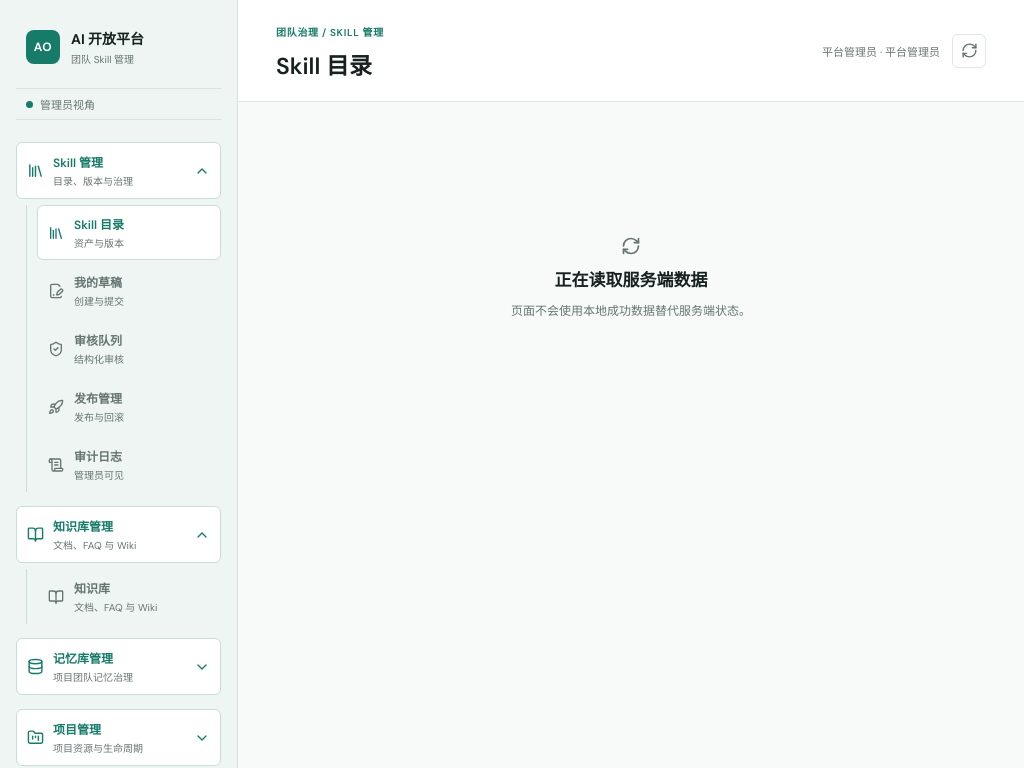
Scenario: AdminDashboard › opens independent project management and renders lifecycle tabs
Click the button "项目管理 项目资源与生命周期": (118, 738) [16, 709, 221, 766]
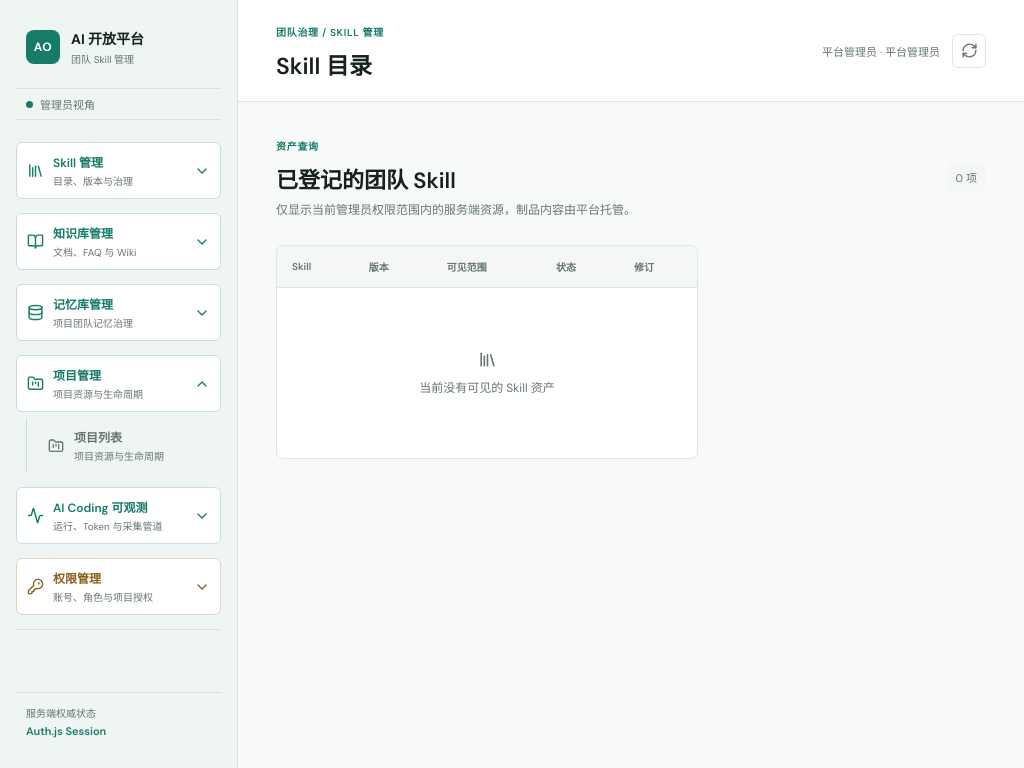
Click the button named "项目列表项目资源与生命周期": (129, 446) [37, 418, 221, 473]
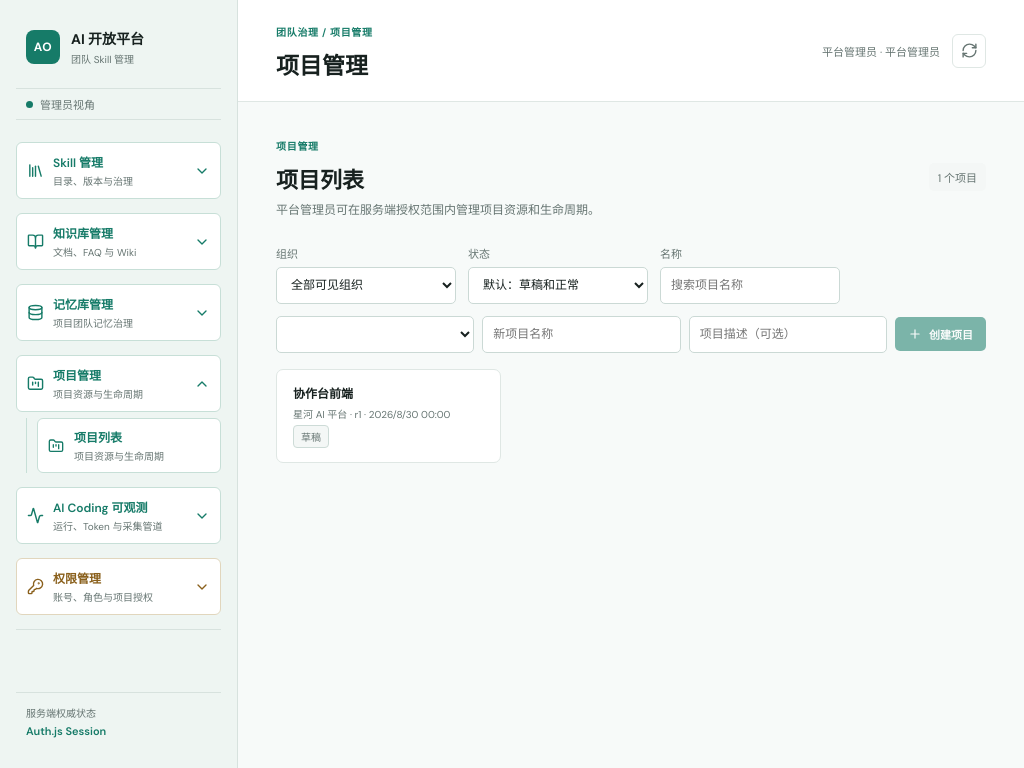
expect the heading "项目列表" is shown: met, box [276, 166, 364, 195]
In the field labelled "项目名称": (581, 334) [482, 316, 681, 353], type "新项目"
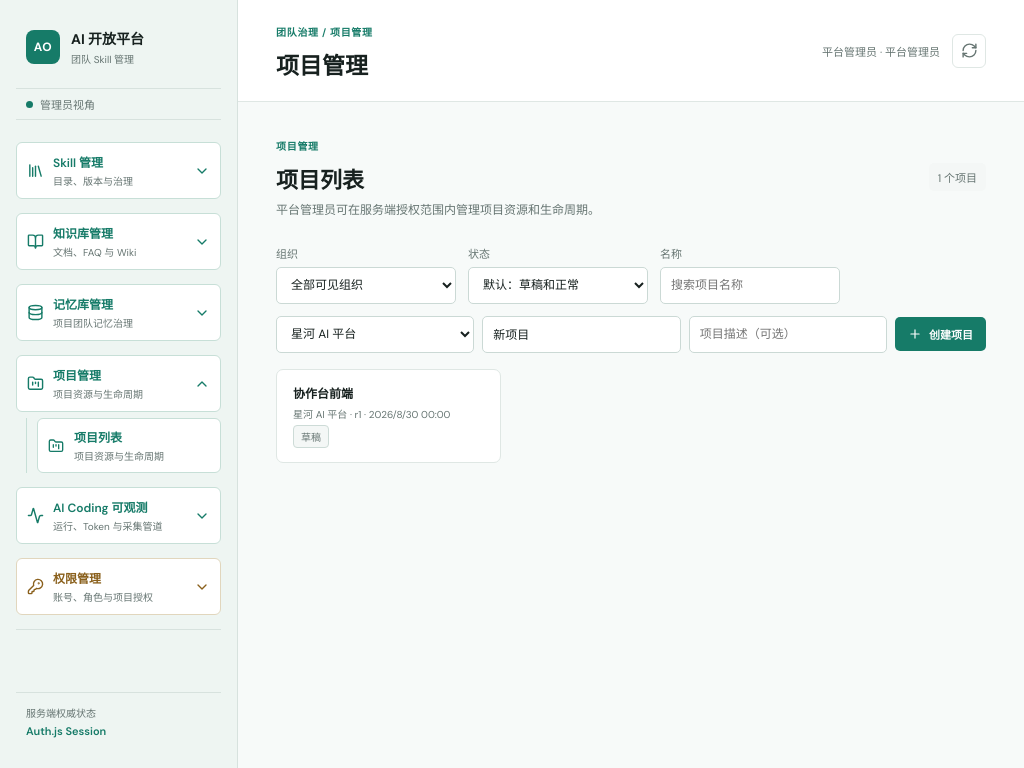
Click the button "创建项目": (940, 334) [895, 317, 986, 351]
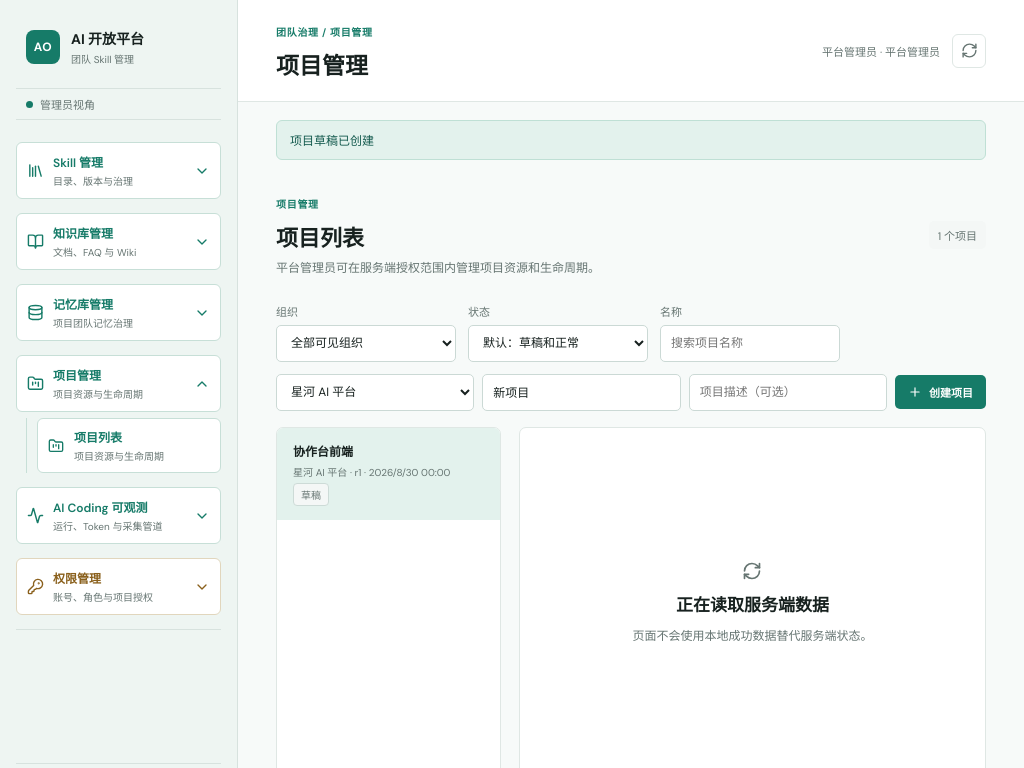
Click the button "协作台前端 星河 AI 平台 · r1 · 2026/8/30 00:00 草稿": (388, 474) [277, 428, 500, 520]
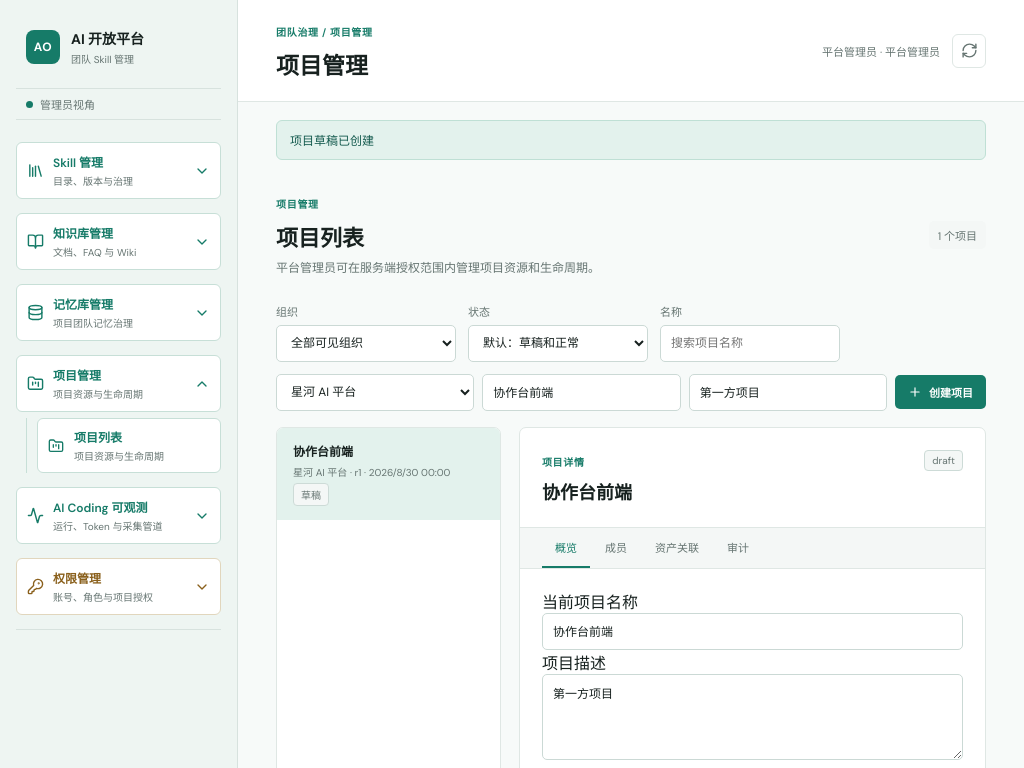
expect the dropdown named "项目状态筛选" shows "默认：草稿和正常": met, box [468, 325, 648, 362]
expect the heading "协作台前端" is shown: met, box [542, 478, 632, 505]
expect the tab "概览" is shown: met, box [542, 528, 590, 568]
